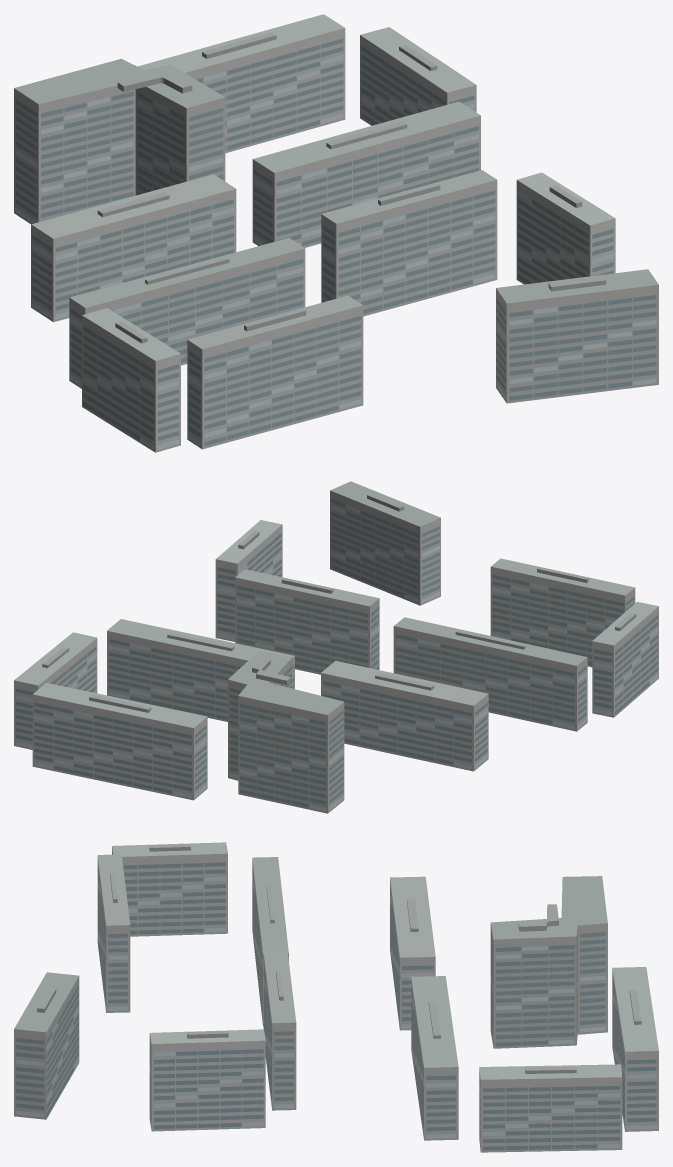
File: apt-a13407002.glb
The picture shows the model from 3 angles, top to bottom: view 1: azimuth 30°, elevation 25°; view 2: azimuth 150°, elevation 25°; view 3: azimuth 270°, elevation 25°; orthographic projection. The views are drawn at different scales.
Visible parts, largest first — view 1: apt-a13407002; view 2: apt-a13407002; view 3: apt-a13407002.
Boxes of the visible parts, x1,y1,x2,y2 form: apt-a13407002: (14, 14, 658, 452); apt-a13407002: (14, 481, 658, 813); apt-a13407002: (14, 842, 658, 1152).
Bounding box in the file's own units: 207 × 47.81 × 245.
